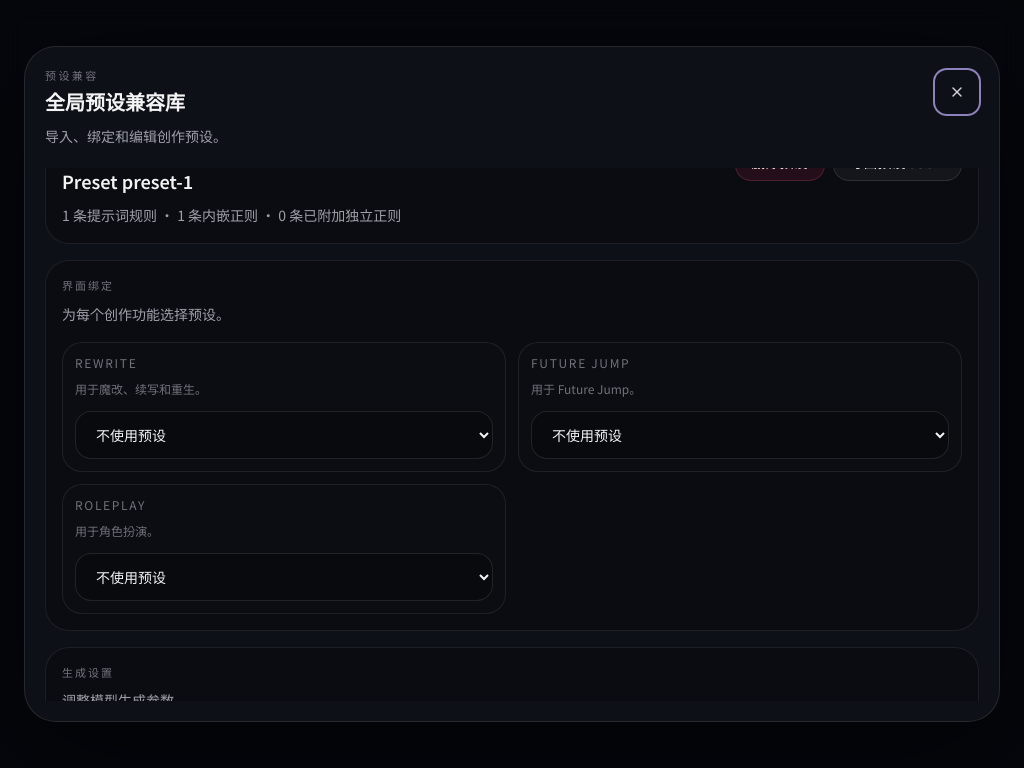
Test: PresetCompatLibraryModal › shows macro-expanded runtime preview parity while preserving raw stored preset text
(page scrolled)
Select "Preset preset-1" in the dropdown with test id "preset-compat-binding-rewrite" at {"x": 284, "y": 435}, box [75,411,493,459]
(page scrolled)
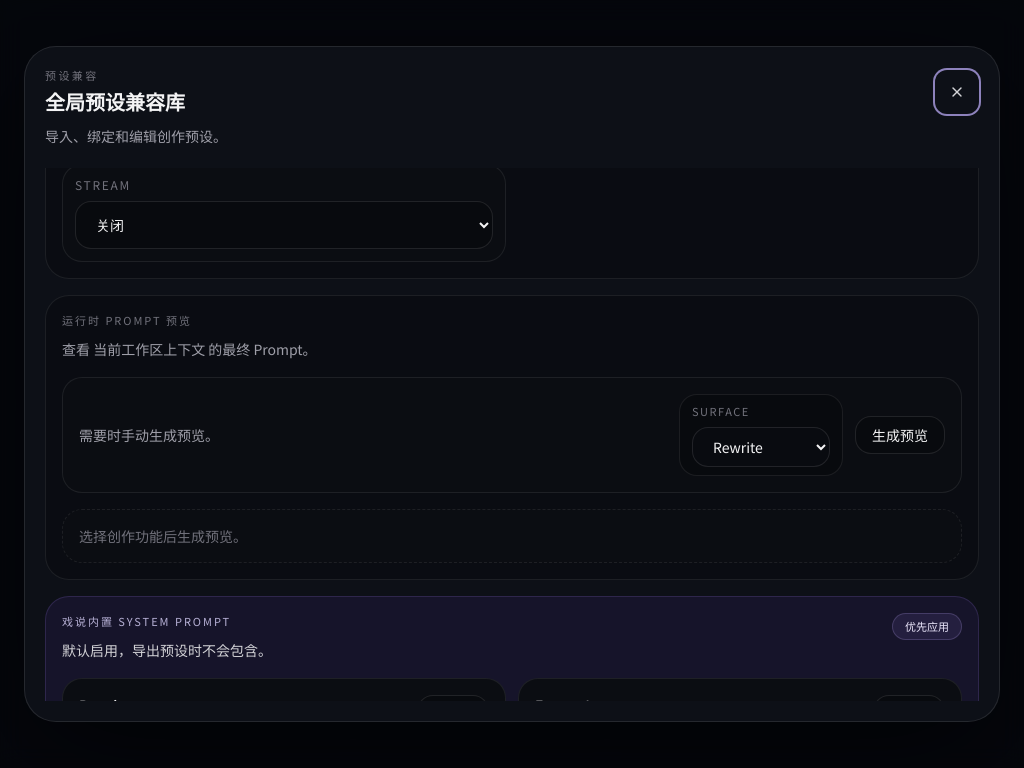
Result: the dropdown with test id "preset-compat-preview-surface-select" shows "Rewrite" at [692,427,830,467]
Click the button with test id "preset-compat-preview-generate" at {"x": 900, "y": 435}, box [855,416,945,454]
(page scrolled)
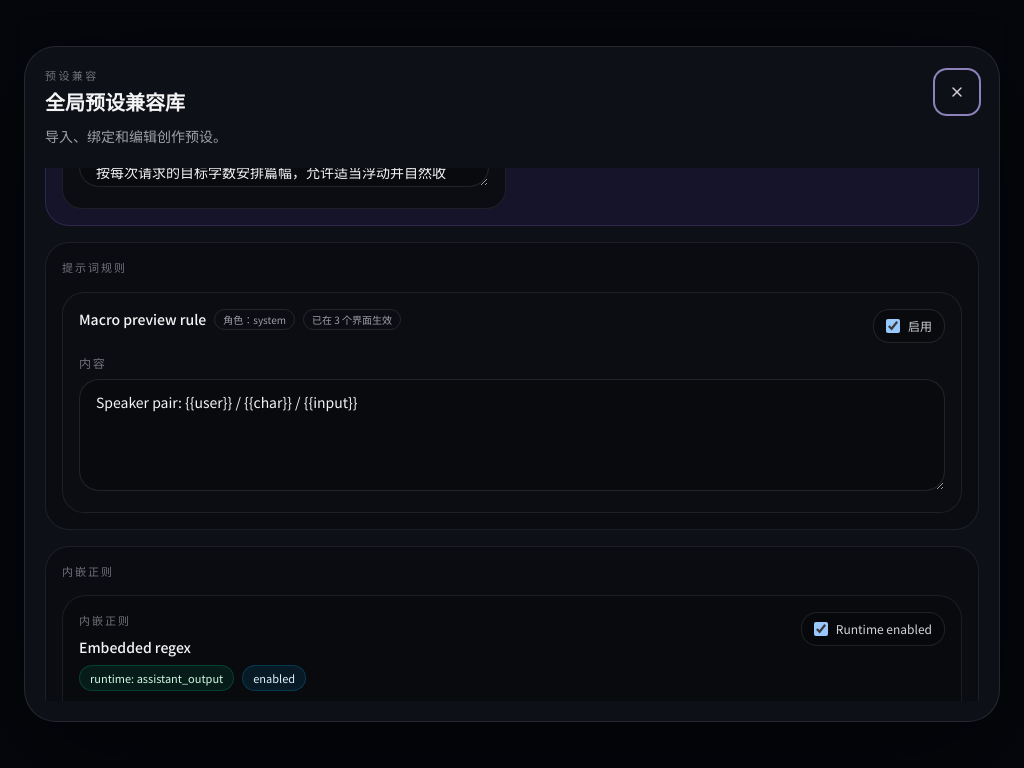
Result: the text box with test id "preset-compat-rule-content-preset-1-rule-1" holds "Speaker pair: {{user}} / {{char}} / {{input}}" at [79,379,945,491]
